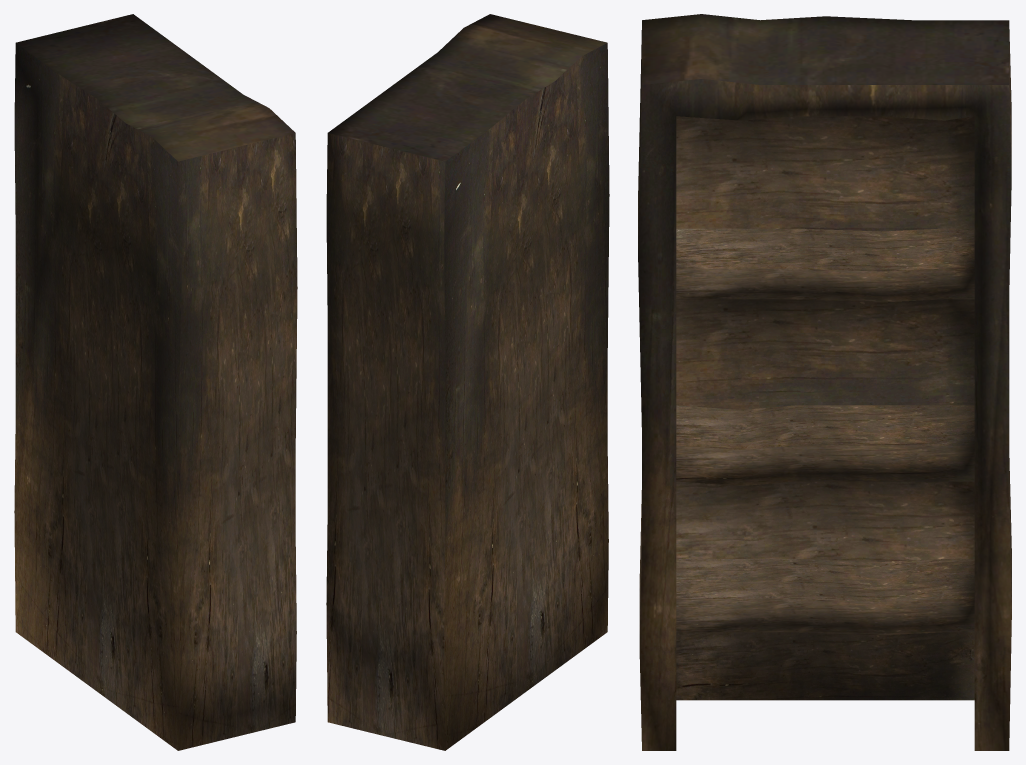
File: shelf_unit.obj
3 renders of one model, left to right at view 1: azimuth 30°, elevation 25°; view 2: azimuth 150°, elevation 25°; view 3: azimuth 270°, elevation 25°, orthographic. The views are drawn at different scales.
Visible parts, largest first — view 1: shelf_unit; view 2: shelf_unit; view 3: shelf_unit.
Boxes of the visible parts, x1,y1,x2,y2 form: shelf_unit: [14, 14, 297, 750]; shelf_unit: [326, 14, 609, 750]; shelf_unit: [638, 14, 1011, 750].
Bounding box in the file's own units: 0.3734 × 1.8 × 0.9097.
1 material, 1 textured.
